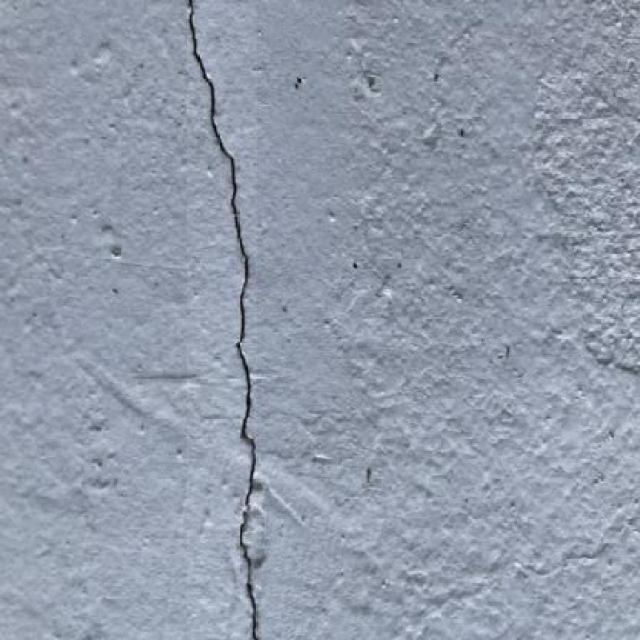vertical crack: (188, 3, 257, 639)
